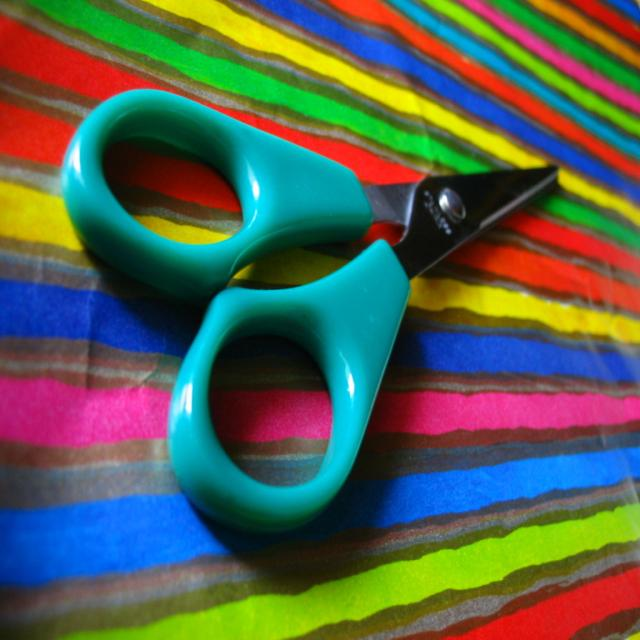scissors: (60, 86, 559, 534)
